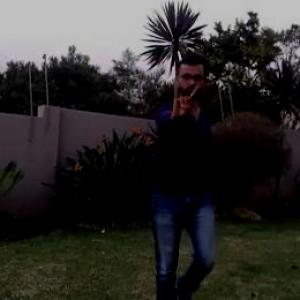takeoff-hand: (161, 71, 202, 122)
